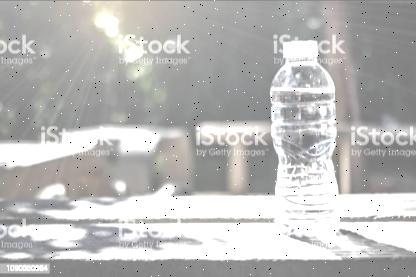Plastic Bottle: (271, 39, 341, 238)
